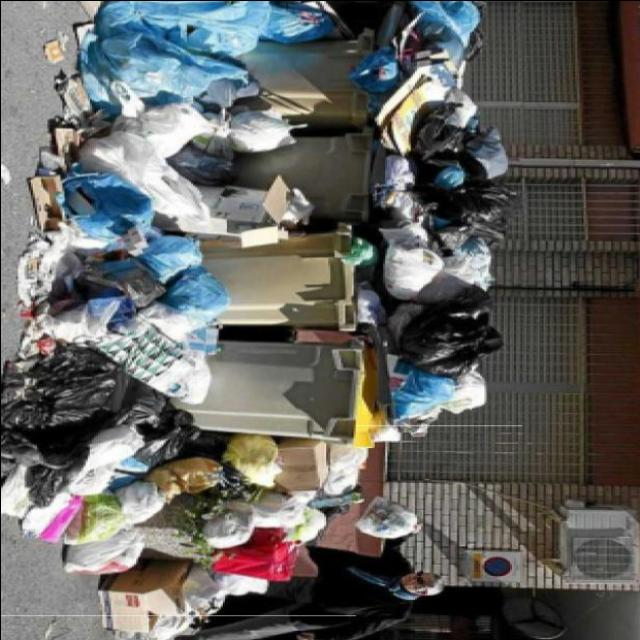plastik: (81, 0, 246, 111), (78, 130, 225, 234), (96, 315, 210, 403), (0, 344, 115, 428), (399, 287, 501, 377), (380, 223, 492, 302), (125, 0, 269, 55), (139, 266, 229, 341), (62, 170, 153, 240), (111, 103, 228, 157), (417, 179, 513, 244), (222, 432, 279, 486)
